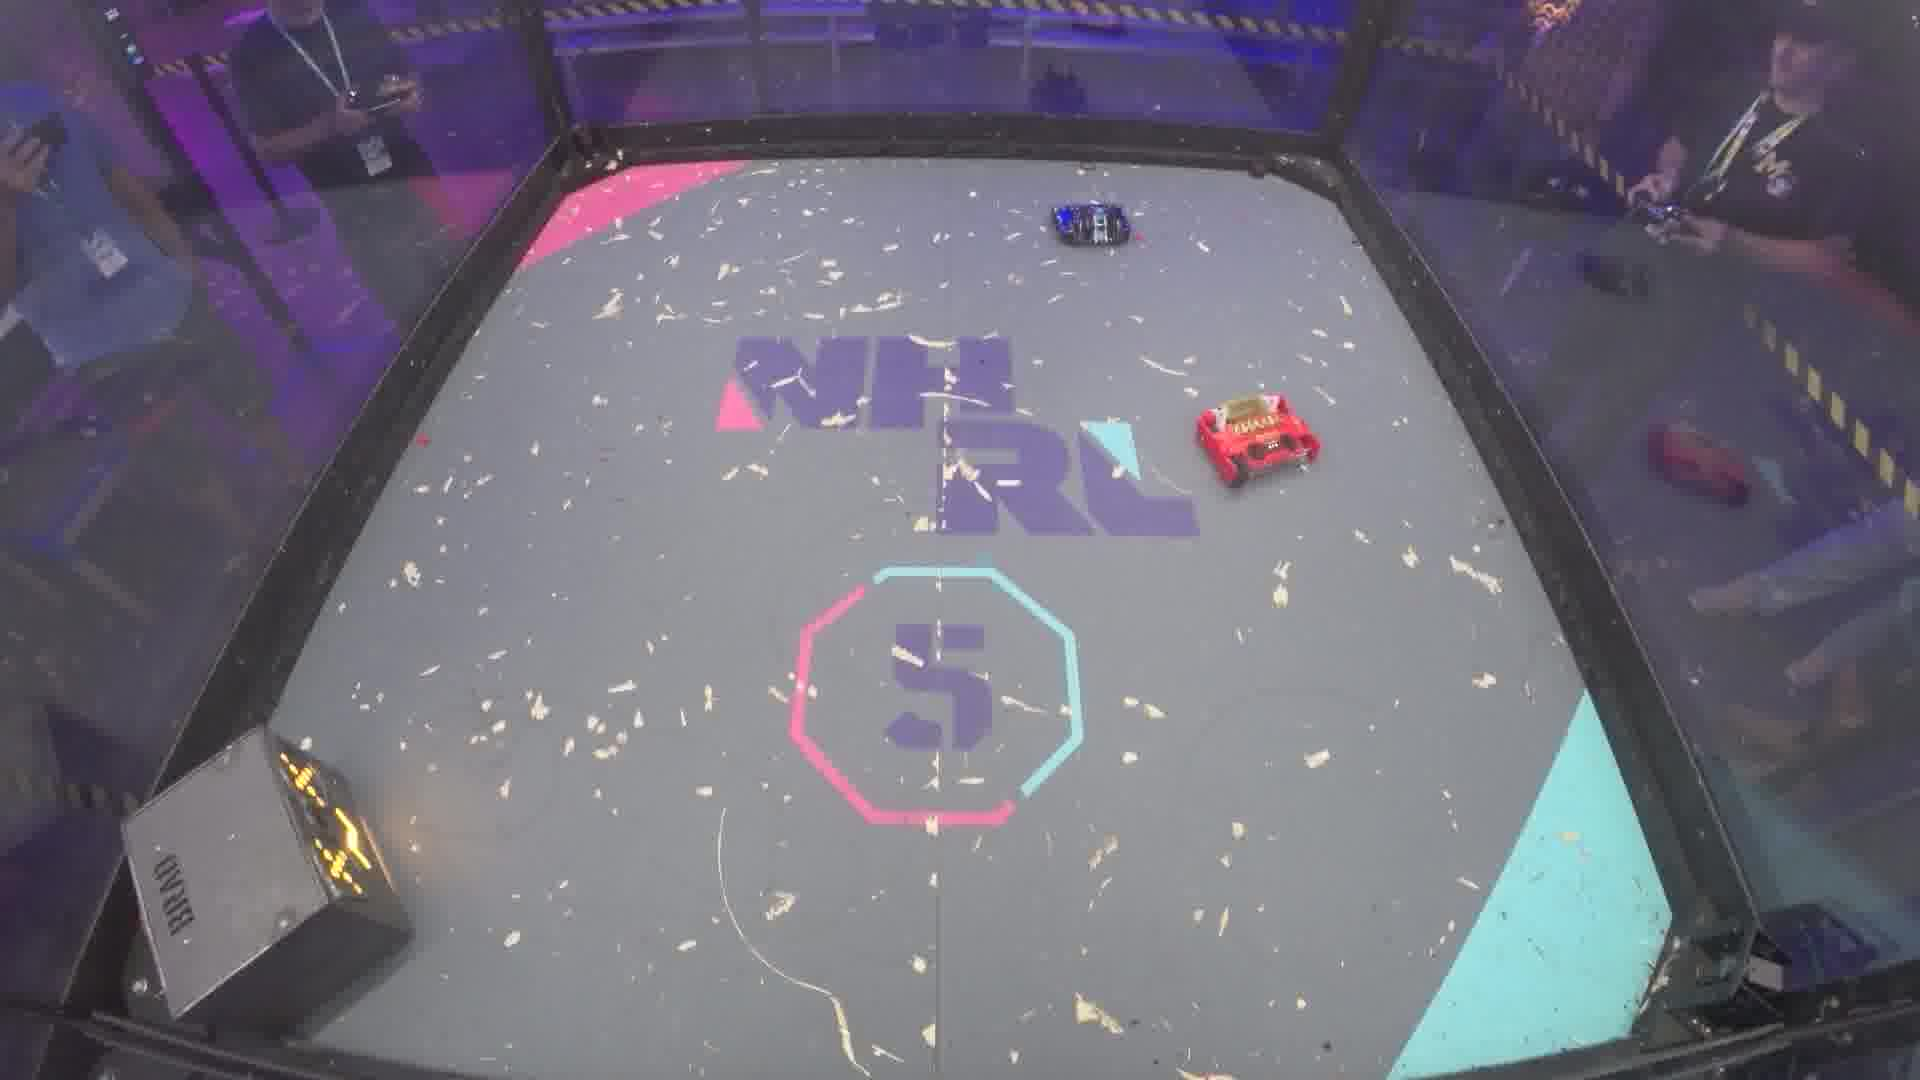combatbot: (1192, 389, 1323, 493), (1639, 413, 1762, 513), (1046, 199, 1137, 252)
housebot: (119, 721, 414, 1031)
